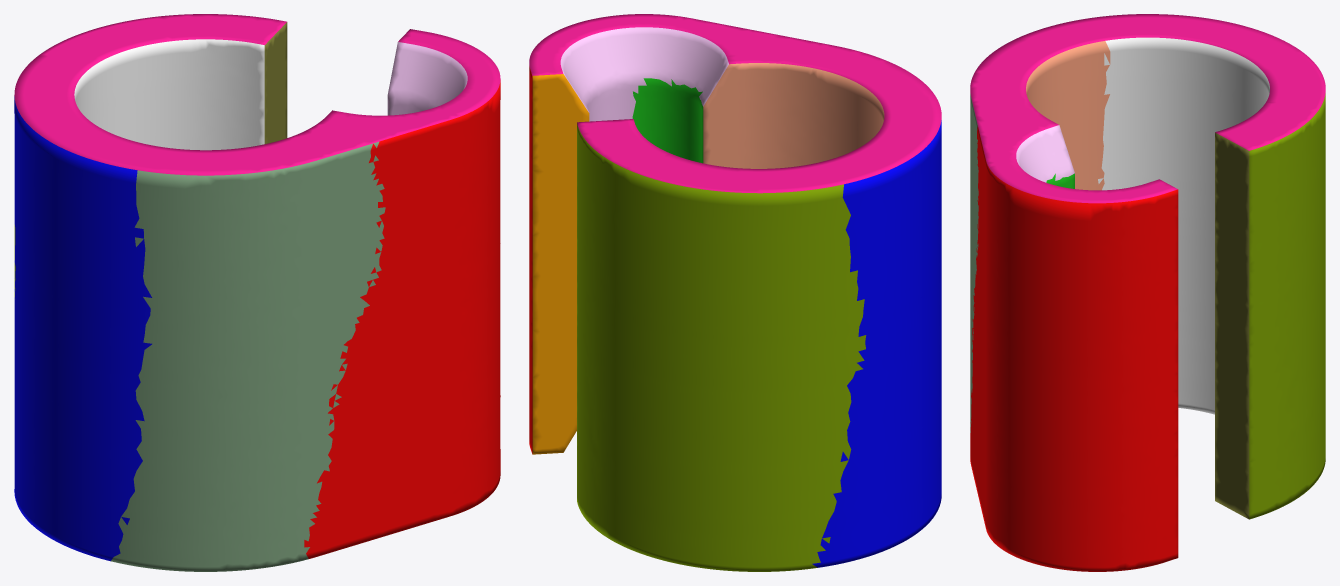
The model's file is model_4_segmented_new.obj.
The picture shows the model from 3 angles, left to right: view 1: azimuth 30°, elevation 25°; view 2: azimuth 150°, elevation 25°; view 3: azimuth 270°, elevation 25°; orthographic projection. The views are drawn at different scales.
Bounding box in the file's own units: 8.81 × 8 × 6.99.
